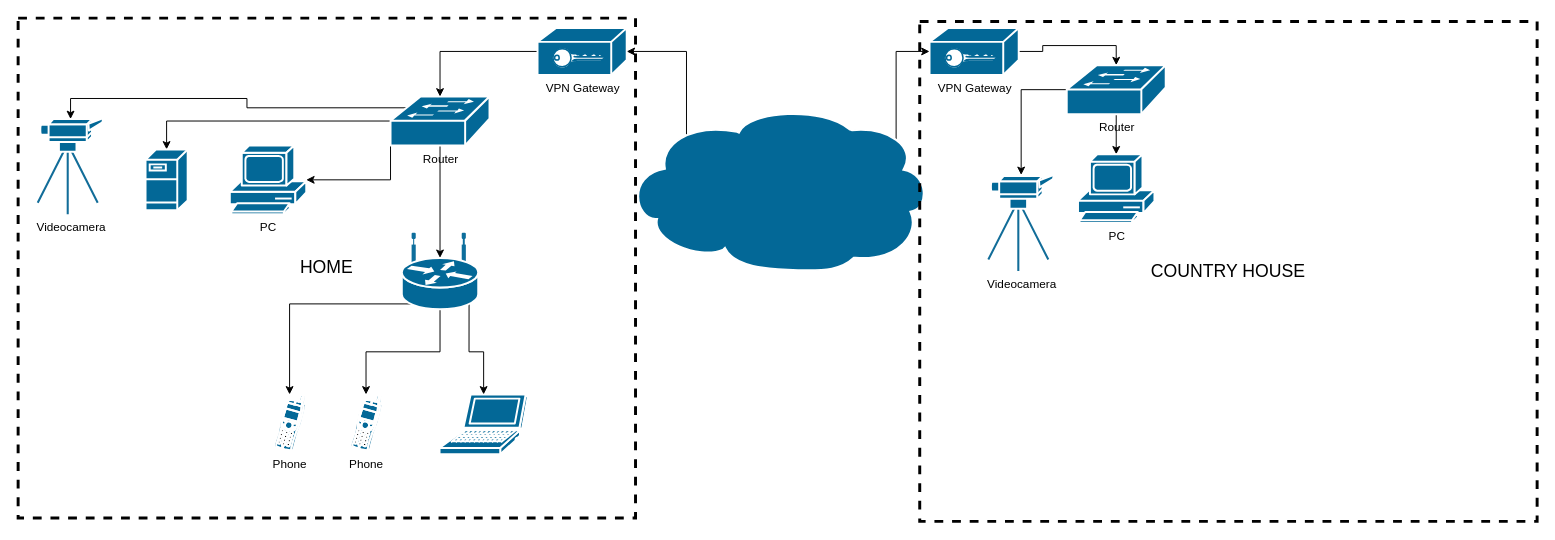
Image size: 1555x540. Some labels were removed from this diagram. The centre of each missing label's shape, as x and y in pixels:
"Fileserver" belongs at (166,179).
"Internet" belongs at (777,188).
"Laptop" belongs at (483,424).
"WiFi Router" belongs at (439,271).
